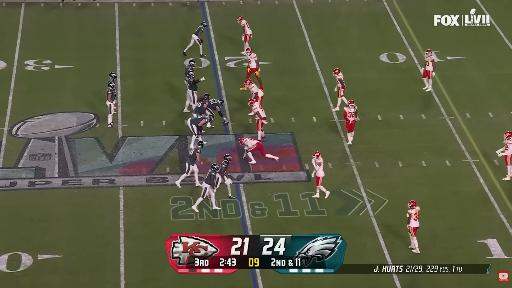Helmet: (333, 68, 343, 79), (244, 78, 253, 88), (407, 200, 417, 209), (247, 98, 256, 106), (313, 151, 321, 159), (223, 154, 232, 161), (109, 72, 117, 79), (504, 131, 511, 139), (245, 47, 252, 55), (333, 68, 340, 76), (211, 164, 219, 171), (200, 21, 207, 28), (197, 141, 204, 148), (237, 15, 244, 22), (189, 59, 195, 66), (108, 82, 115, 88), (348, 100, 354, 107), (204, 94, 210, 100), (218, 99, 224, 105), (188, 71, 194, 77), (426, 50, 431, 57), (208, 115, 213, 122), (239, 138, 243, 144)
Jersey: (187, 147, 201, 165), (204, 170, 217, 187), (252, 102, 265, 119), (408, 207, 419, 227), (249, 83, 263, 97), (186, 76, 199, 91), (344, 106, 357, 121), (243, 138, 258, 150), (240, 20, 252, 34), (315, 158, 324, 176), (191, 116, 207, 126), (219, 161, 229, 177), (193, 103, 206, 115), (247, 53, 257, 68), (425, 56, 434, 71), (336, 75, 345, 90), (208, 99, 220, 110), (503, 140, 511, 155), (185, 66, 194, 79), (107, 88, 116, 101), (194, 26, 204, 37), (108, 76, 116, 83)
Player: (192, 164, 220, 212), (176, 141, 203, 187), (193, 94, 228, 124), (239, 138, 278, 163), (184, 71, 205, 112), (187, 116, 213, 149), (182, 22, 207, 56), (312, 152, 330, 198), (248, 99, 267, 141), (496, 131, 511, 180), (246, 47, 263, 90), (219, 154, 234, 198), (407, 200, 419, 253), (343, 100, 357, 144), (207, 97, 229, 124), (333, 68, 347, 110), (238, 16, 252, 50), (423, 50, 434, 91), (106, 82, 116, 127), (245, 79, 263, 104), (193, 98, 211, 117), (184, 59, 195, 87), (108, 72, 117, 82)
